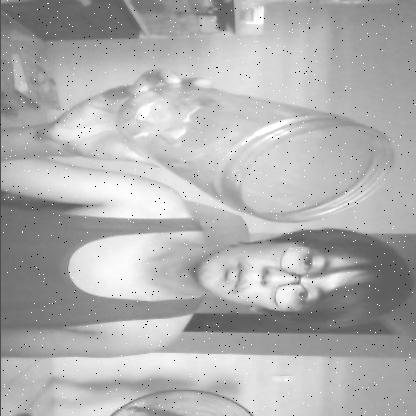Plastic Bottle: (114, 83, 404, 229)
